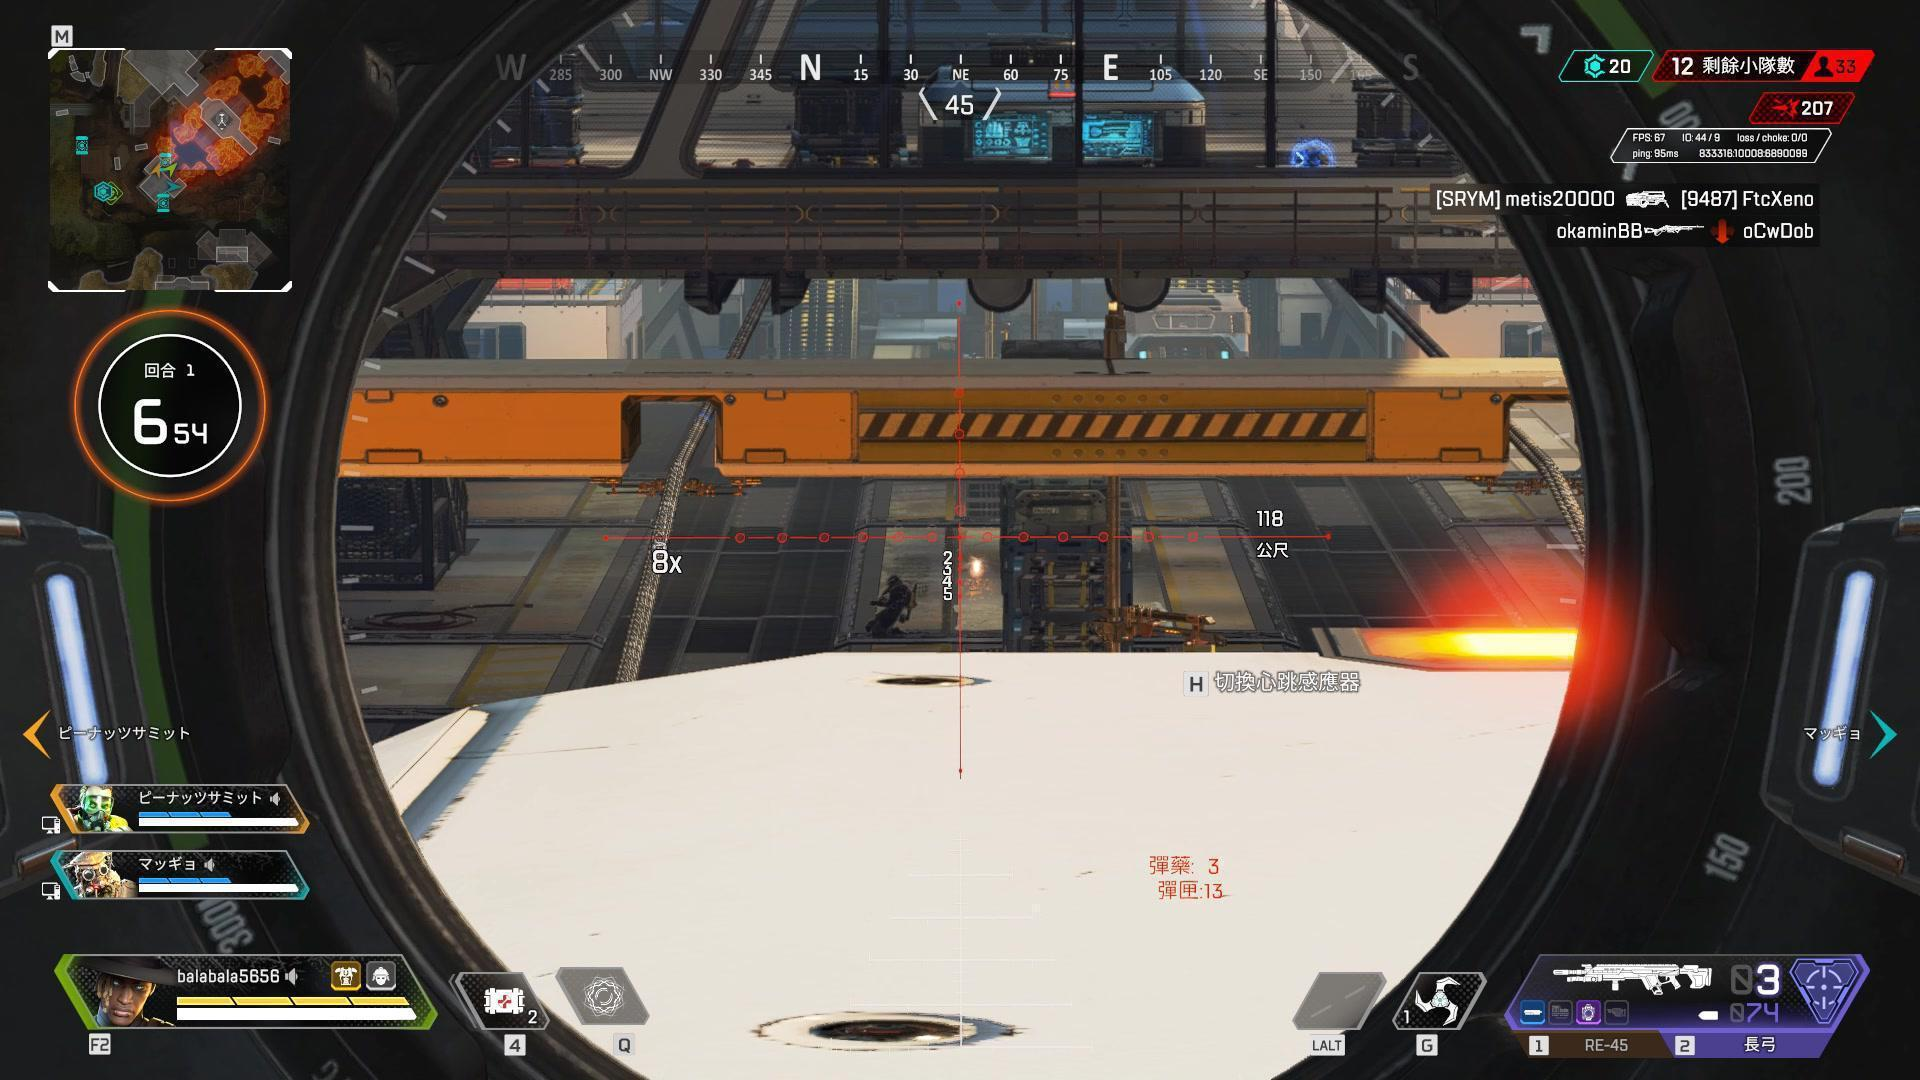avatar: (862, 572, 921, 642)
